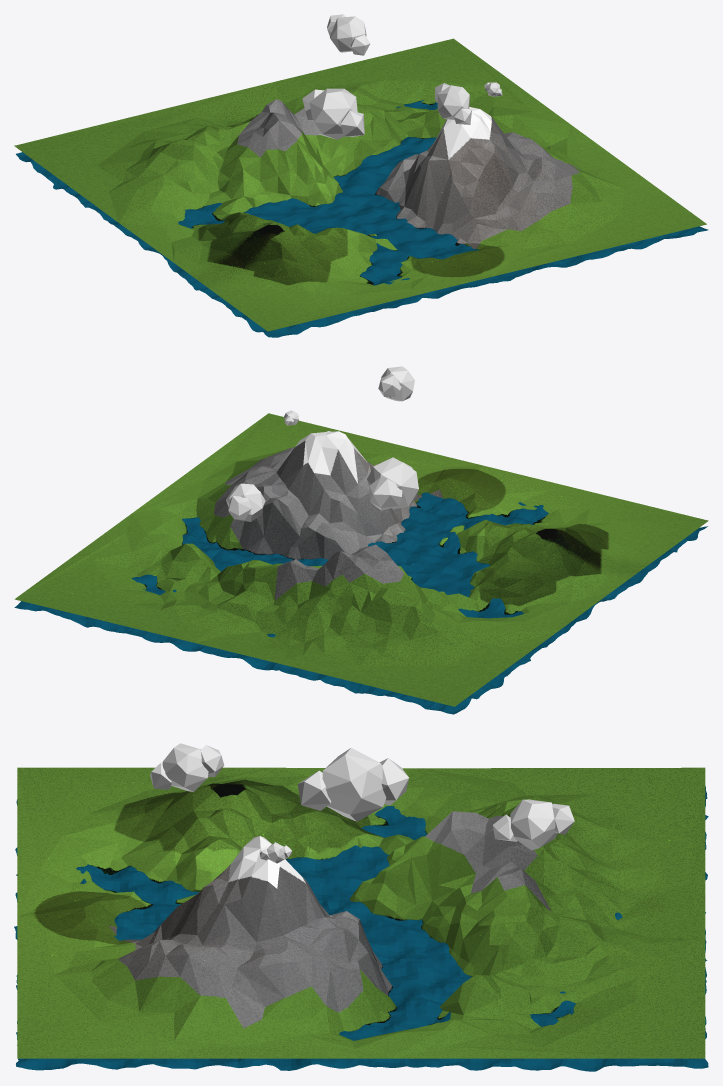
3 renders of one model, top to bottom at view 1: azimuth 30°, elevation 25°; view 2: azimuth 150°, elevation 25°; view 3: azimuth 270°, elevation 25°, orthographic. The views are drawn at different scales.
Parts seen in each view (by area): view 1: Landscape, Landscape_plane, cloud.001_Icosphere.004, cloud.001_Icosphere.003, cloud.001_Icosphere.001; view 2: Landscape, Landscape_plane, cloud.001_Icosphere.004, cloud.001_Icosphere.003, cloud.001_Icosphere.001; view 3: Landscape, Landscape_plane, cloud.001_Icosphere.004, cloud.001_Icosphere.003, cloud.001_Icosphere.001.
Boxes of the visible parts, bbox=[...] form: Landscape: bbox=[14, 38, 706, 331]; Landscape_plane: bbox=[16, 100, 708, 337]; cloud.001_Icosphere.004: bbox=[302, 88, 364, 139]; cloud.001_Icosphere.003: bbox=[327, 14, 370, 55]; cloud.001_Icosphere.001: bbox=[435, 83, 471, 124]; Landscape: bbox=[14, 413, 708, 706]; Landscape_plane: bbox=[14, 492, 707, 714]; cloud.001_Icosphere.004: bbox=[367, 457, 418, 510]; cloud.001_Icosphere.003: bbox=[226, 483, 265, 521]; cloud.001_Icosphere.001: bbox=[378, 366, 414, 401]; Landscape: bbox=[17, 767, 705, 1058]; Landscape_plane: bbox=[14, 786, 708, 1071]; cloud.001_Icosphere.004: bbox=[297, 747, 409, 821]; cloud.001_Icosphere.003: bbox=[492, 799, 574, 850]; cloud.001_Icosphere.001: bbox=[150, 743, 224, 791].
Bounding box in the file's own units: 10.15 × 3.47 × 10.1.
Materials: 5 (3 with a texture image).
